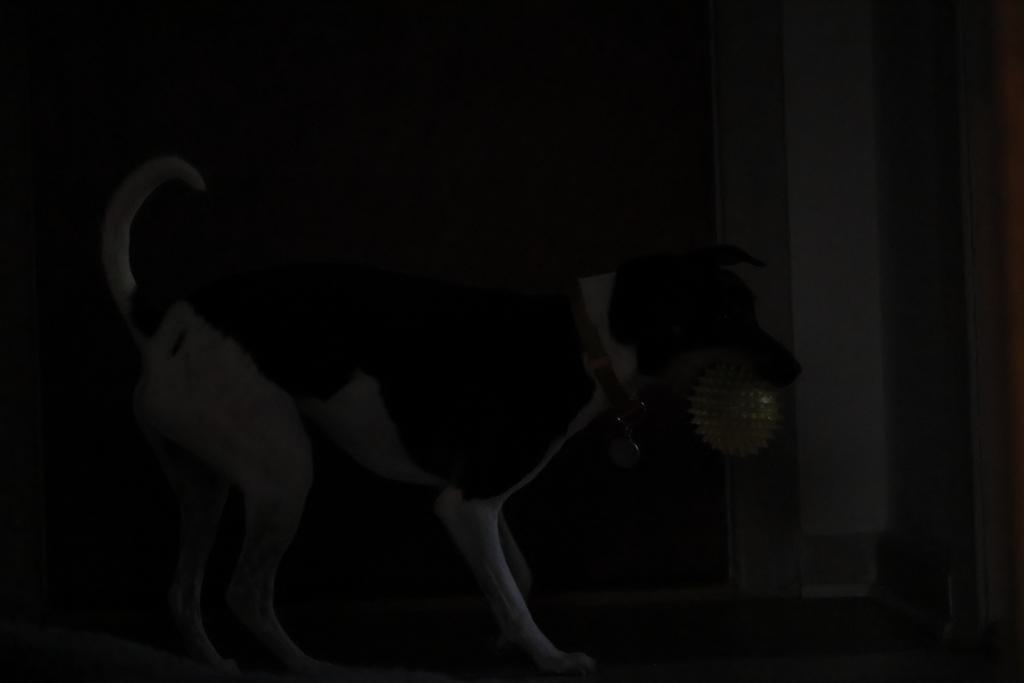Dog: (82, 130, 819, 683)
